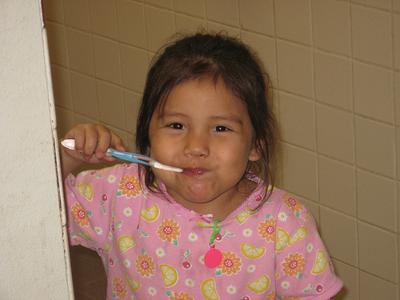person: (61, 34, 342, 300)
